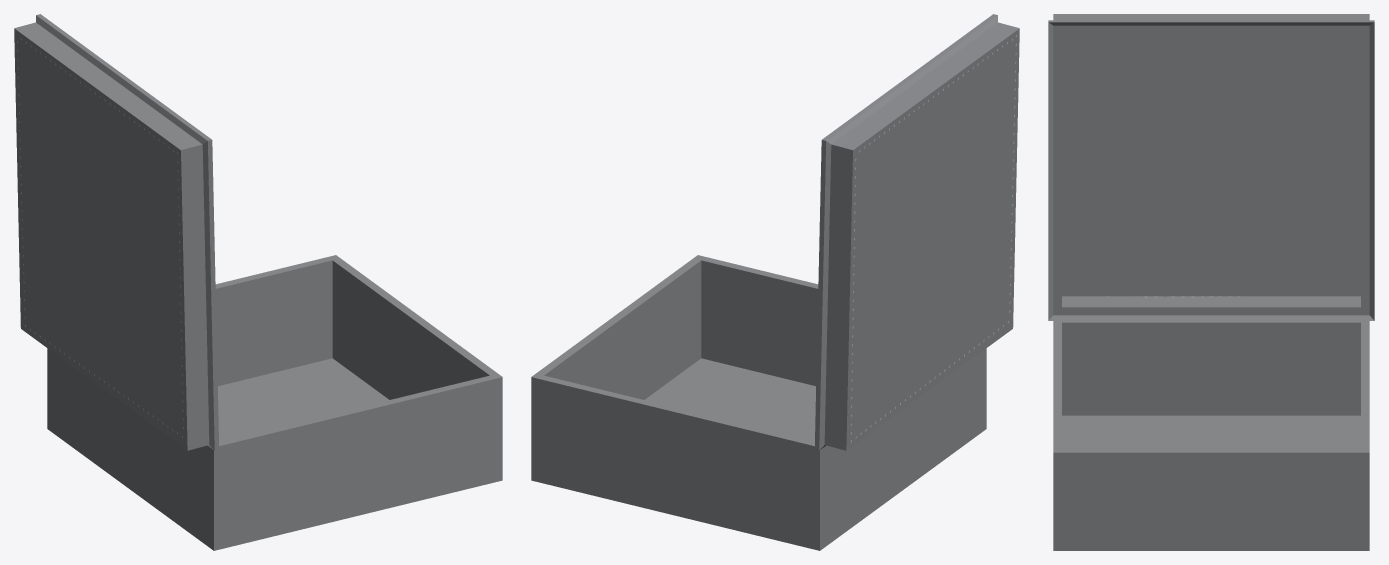
Rendered from Metal_Box_Textured.fbx.
3 renders of one model, left to right at view 1: azimuth 30°, elevation 25°; view 2: azimuth 150°, elevation 25°; view 3: azimuth 270°, elevation 25°, orthographic. The views are drawn at different scales.
Parts seen in each view (by area): view 1: box1; view 2: box1; view 3: box1.
Boxes of the visible parts, left/top/right/bottom form: box1: left=14, top=14, right=502, bottom=550; box1: left=531, top=14, right=1019, bottom=550; box1: left=1048, top=14, right=1374, bottom=550.
Bounding box in the file's own units: 11.88 × 14.6 × 10.99.
